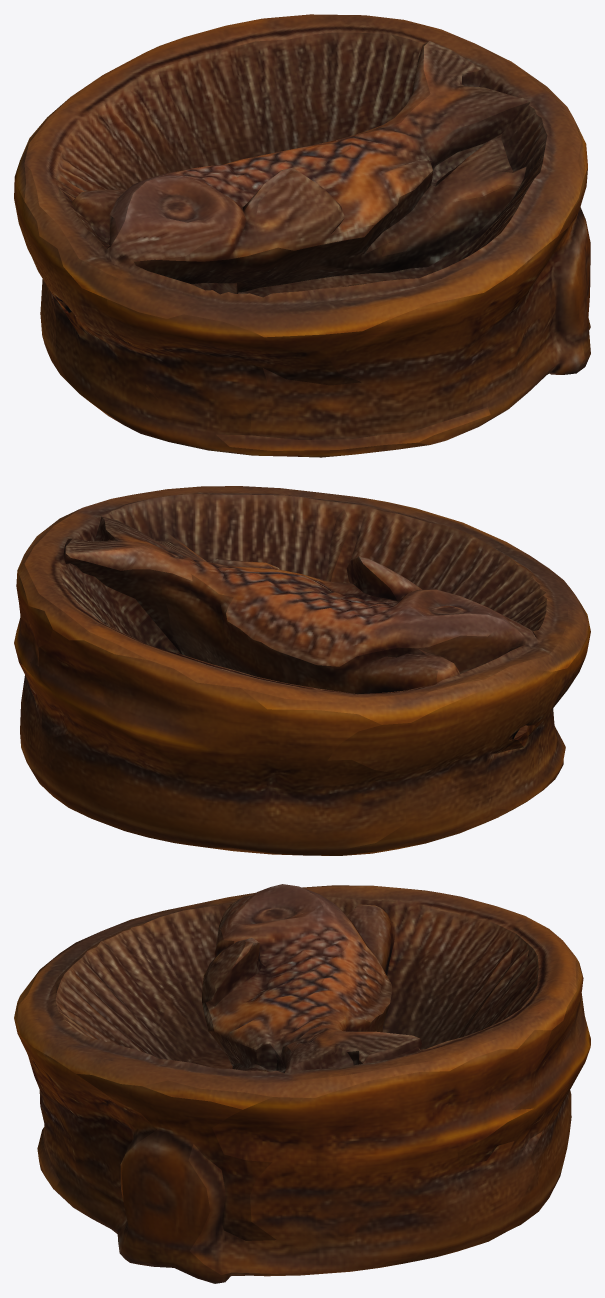
3 renders of one model, top to bottom at view 1: azimuth 30°, elevation 25°; view 2: azimuth 150°, elevation 25°; view 3: azimuth 270°, elevation 25°, orthographic. The views are drawn at different scales.
Visible parts, largest first — view 1: world; view 2: world; view 3: world.
Boxes of the visible parts, bbox=[...] form: world: bbox=[14, 14, 590, 457]; world: bbox=[14, 486, 590, 855]; world: bbox=[14, 884, 590, 1283].
Bounding box in the file's own units: 0.045 × 0.0192 × 0.0449.
1 material, 1 textured.
